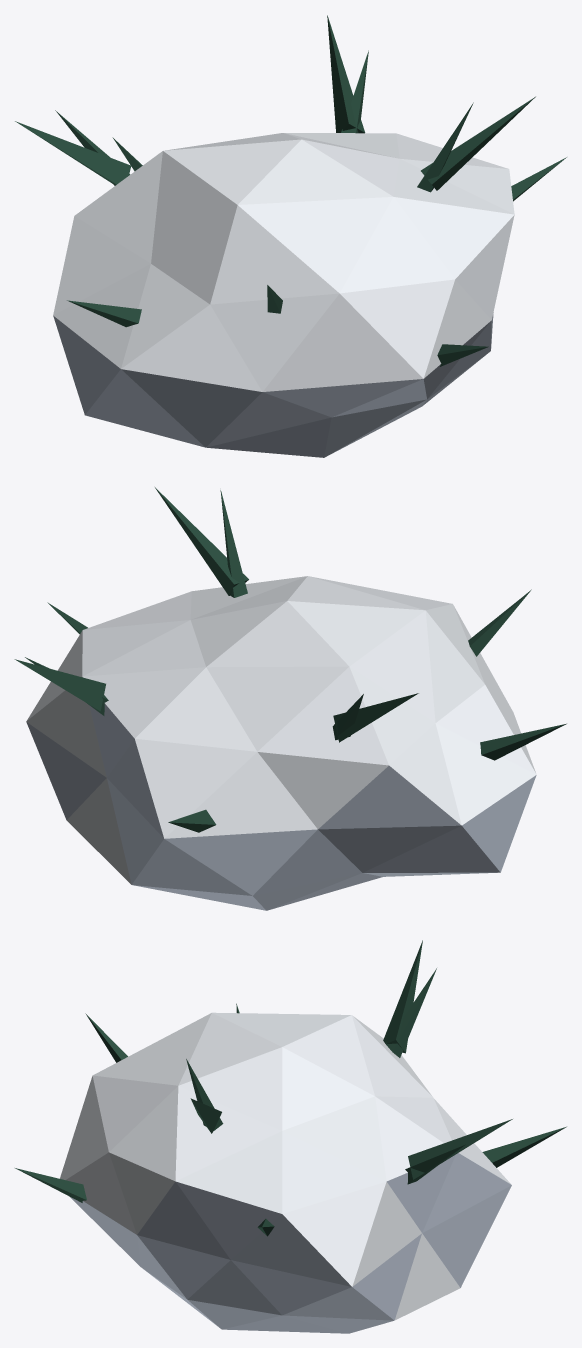
File: snow_shrub.glb
The picture shows the model from 3 angles, top to bottom: view 1: azimuth 30°, elevation 25°; view 2: azimuth 150°, elevation 25°; view 3: azimuth 270°, elevation 25°; orthographic projection. The views are drawn at different scales.
Visible parts, largest first — view 1: snow_shrub; view 2: snow_shrub; view 3: snow_shrub.
Part boxes in pixels (<box>): snow_shrub: <box>15,15,566,457</box>; snow_shrub: <box>14,487,566,910</box>; snow_shrub: <box>15,940,566,1333</box>.
Size of what is drawn, in the model's own units: 1.37 by 0.79 by 1.39.
Materials: 1 (1 with a texture image).
